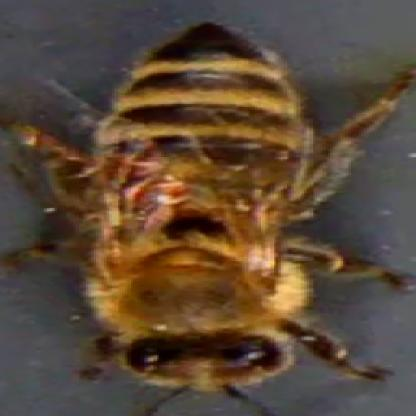bee: (88, 9, 326, 398)
vaoora: (126, 182, 185, 204), (120, 157, 160, 176)
